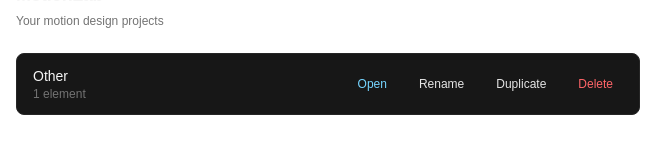
Test: ProjectList — delete › leaves the editor store alone when deleting an unrelated project
Click the button with aria-label "Delete Other": coordinates (596, 84) [568,72,623,96]
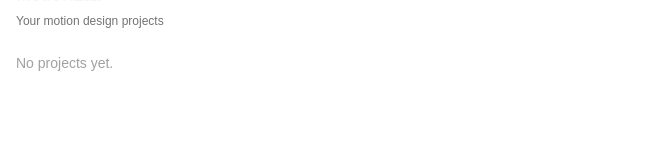
Now the text "No projects yet." is shown, box [16,55,113,71]
